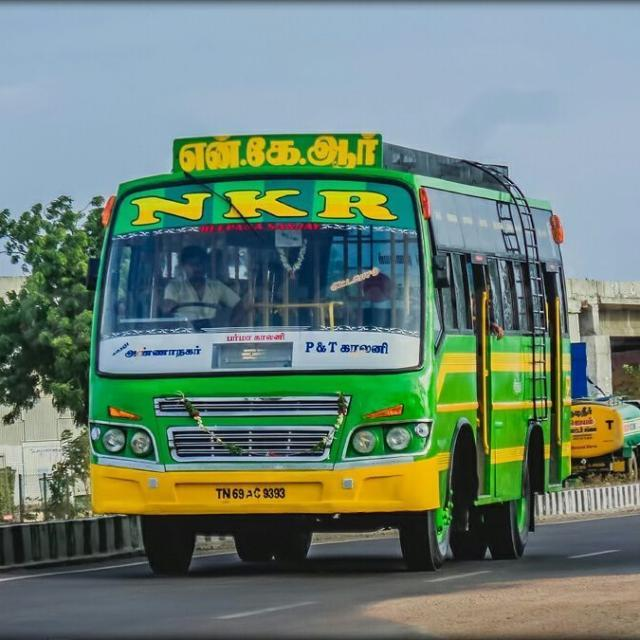Bus: (88, 127, 575, 571)
